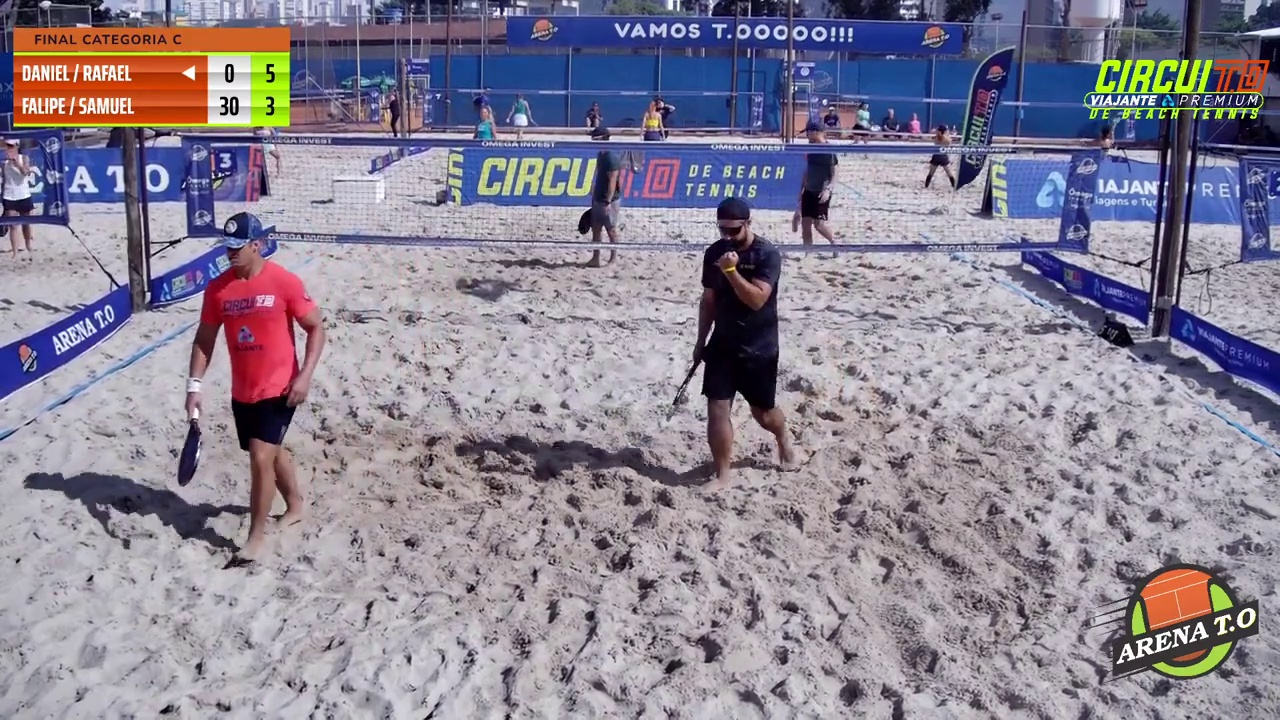court_line: (619, 0, 789, 431)
